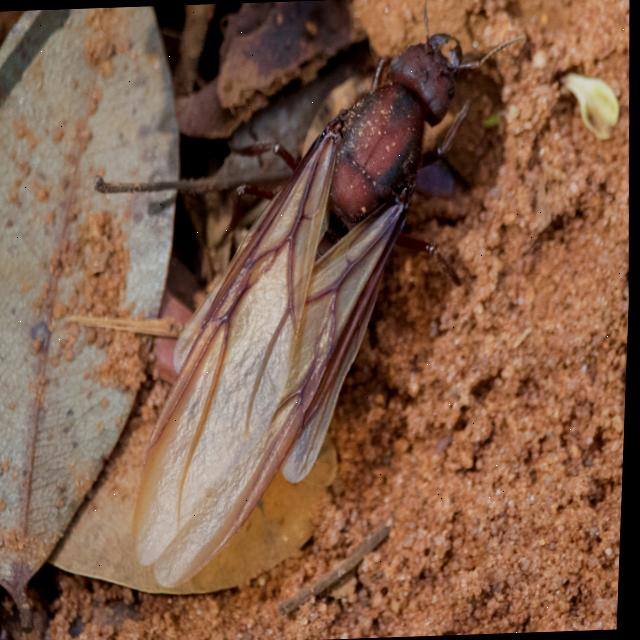Alive-Female-Alate: (116, 0, 547, 590)
